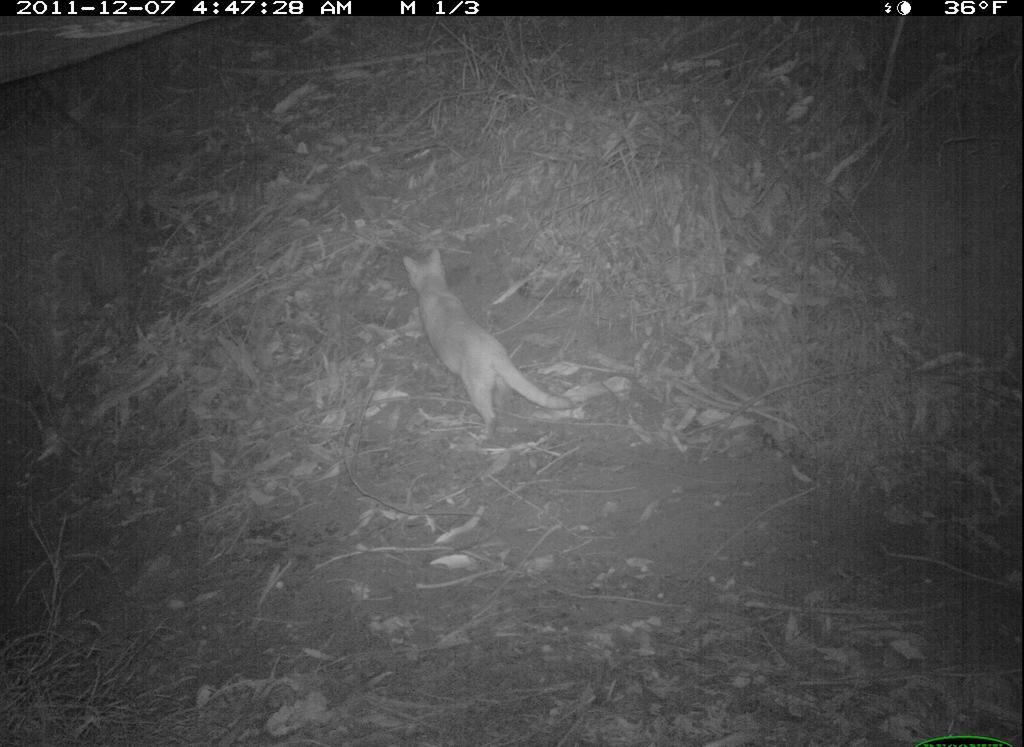cat: (392, 245, 578, 447)
